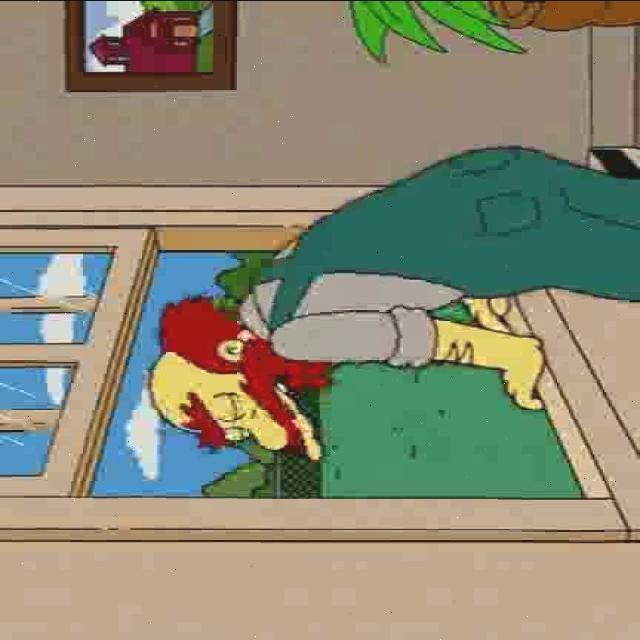Groundskeeper Willie: (149, 292, 343, 461)
